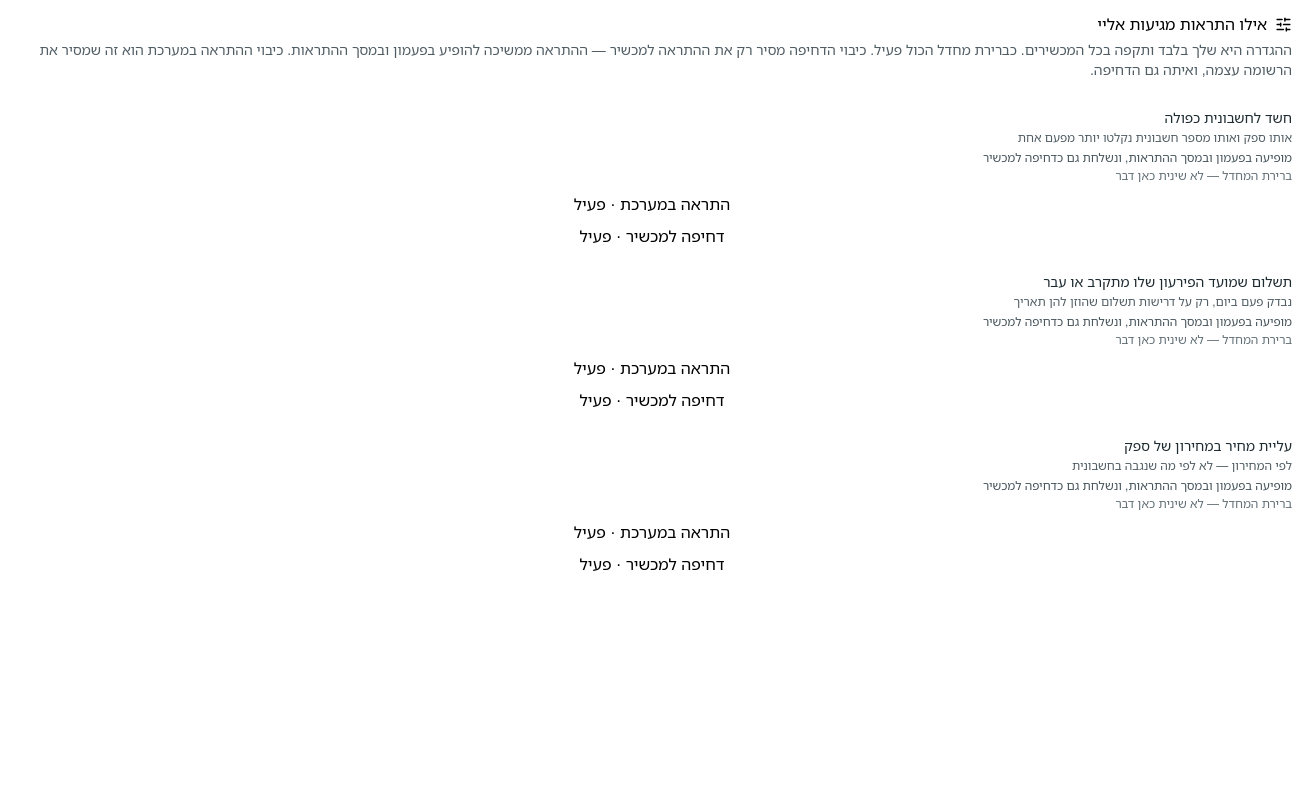
Scenario: NotificationMatrix — per-event delivery preferences (migration 0068) › writes exactly one row for one toggle, carrying the untouched channel unchanged
The width and height of the screenshot is (1304, 812).
Check: the text "חשד לחשבונית כפולה" is shown, box [1165,108,1292,127]
Click the switch labelled "דחיפה למכשיר · פעיל" below "חשד לחשבונית כפולה": [652, 236] box [12,224,1292,248]
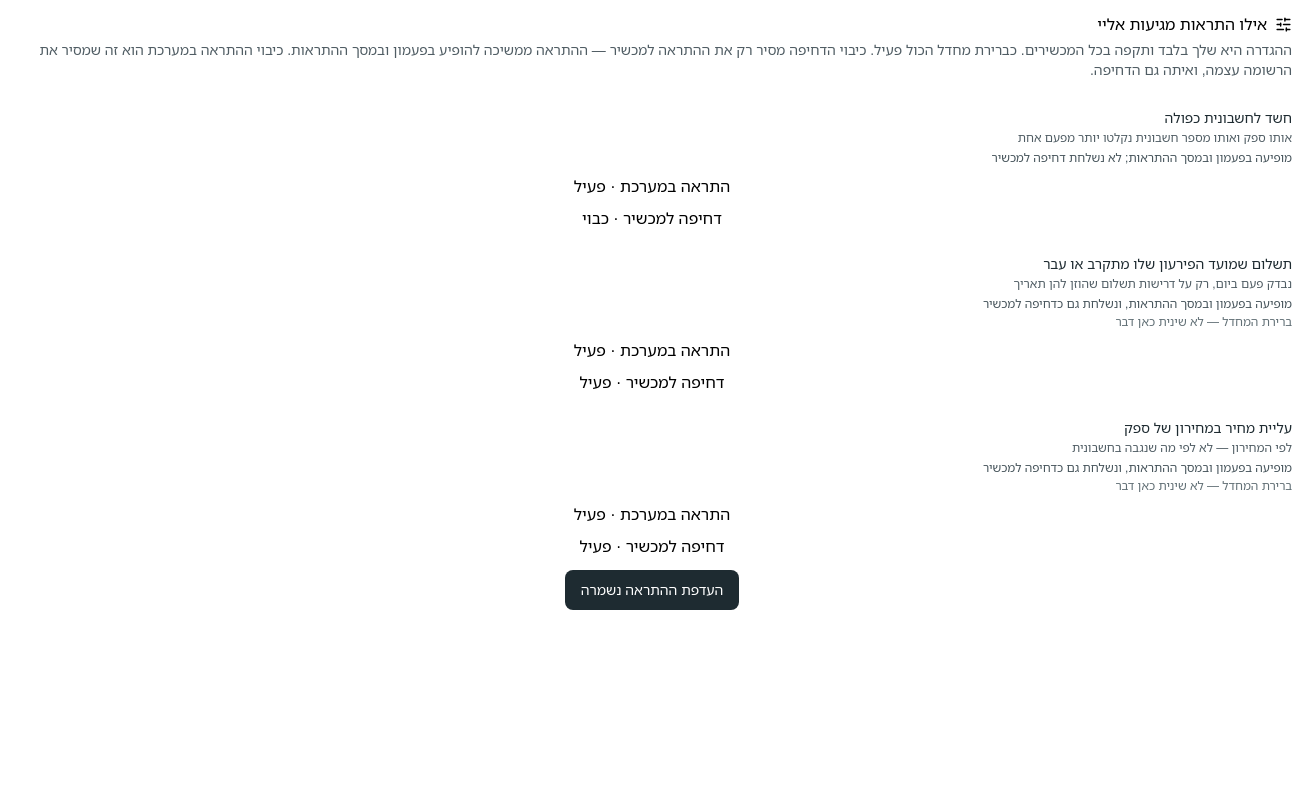
Check: the text "ברירת המחדל — לא שינית כאן דבר" is shown 2 times, box [1115,313,1292,330]; [1115,477,1292,494]
